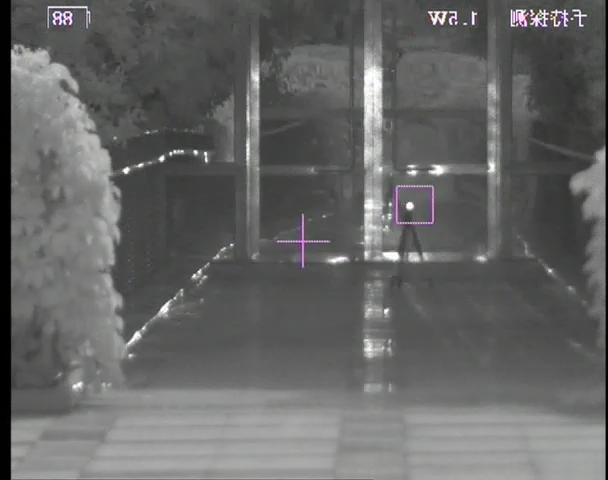my: (404, 200, 415, 212)
